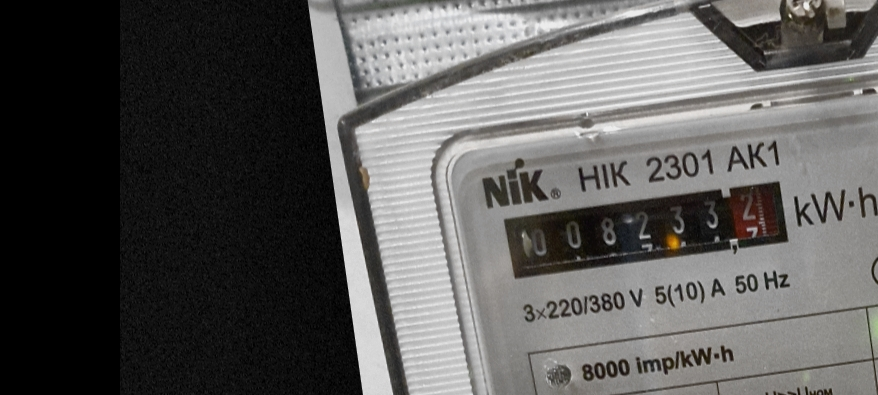0: (528, 225, 552, 260), (563, 219, 586, 253)
2: (632, 209, 656, 244), (738, 191, 760, 224)
3: (668, 204, 690, 237), (703, 198, 724, 232)
8: (599, 215, 620, 249)
screen: (493, 169, 803, 292)
